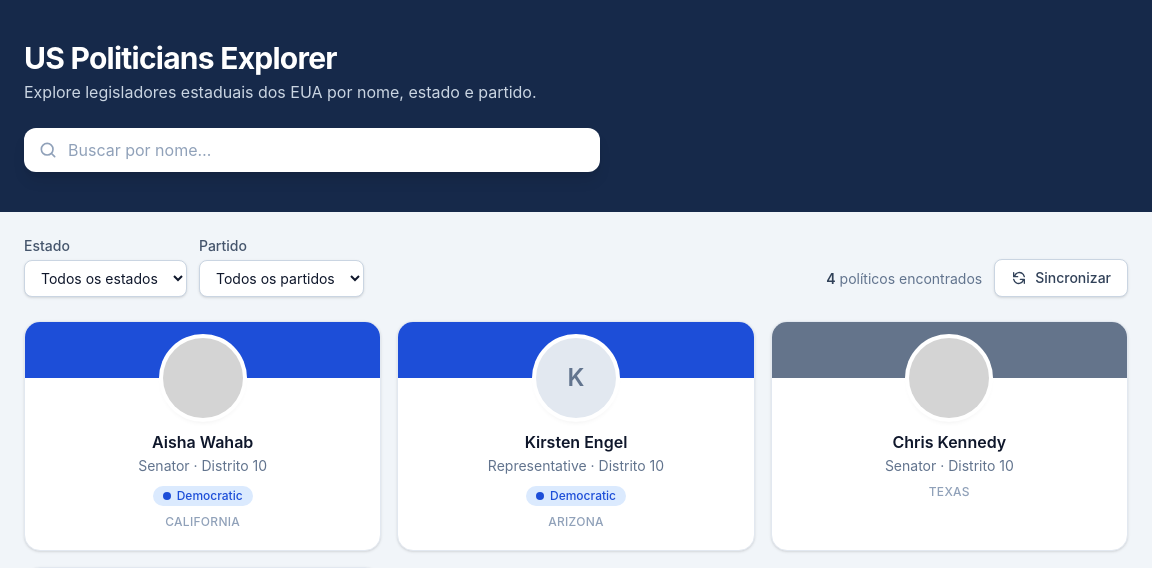
Test: PoliticosPage › "Limpar filtros" no estado vazio restaura a listagem
Type "nome-que-não-existe" into the search field labelled "Buscar por nome…" at (312, 150), box [24,128,600,172]
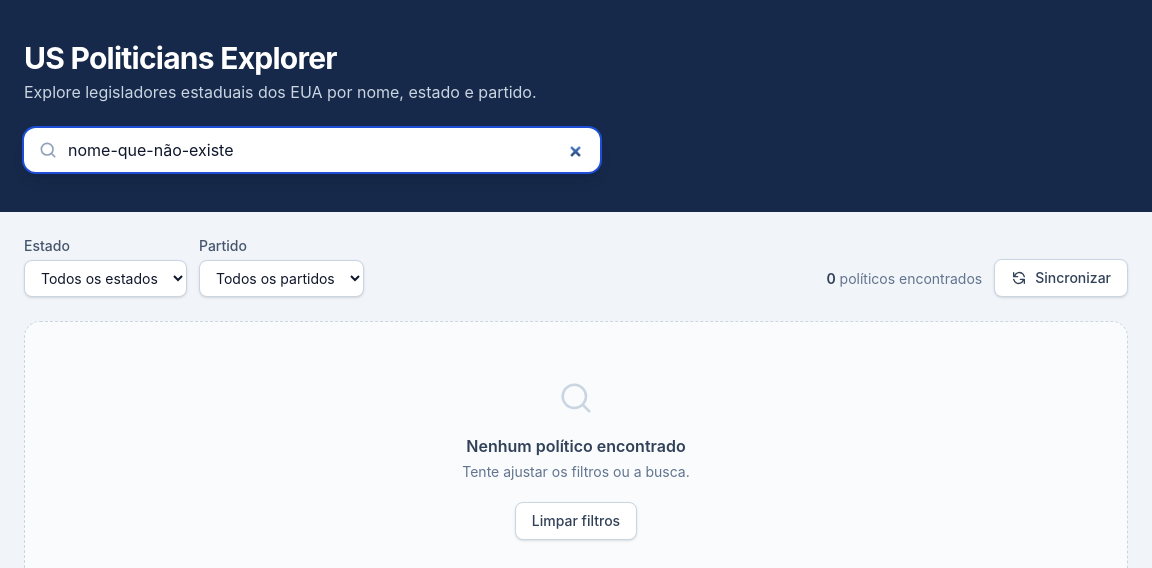
Expected: the text "Nenhum político encontrado" is shown, [466,434,686,458]
Click the button "Limpar filtros" at (576, 521), box [515,502,637,540]
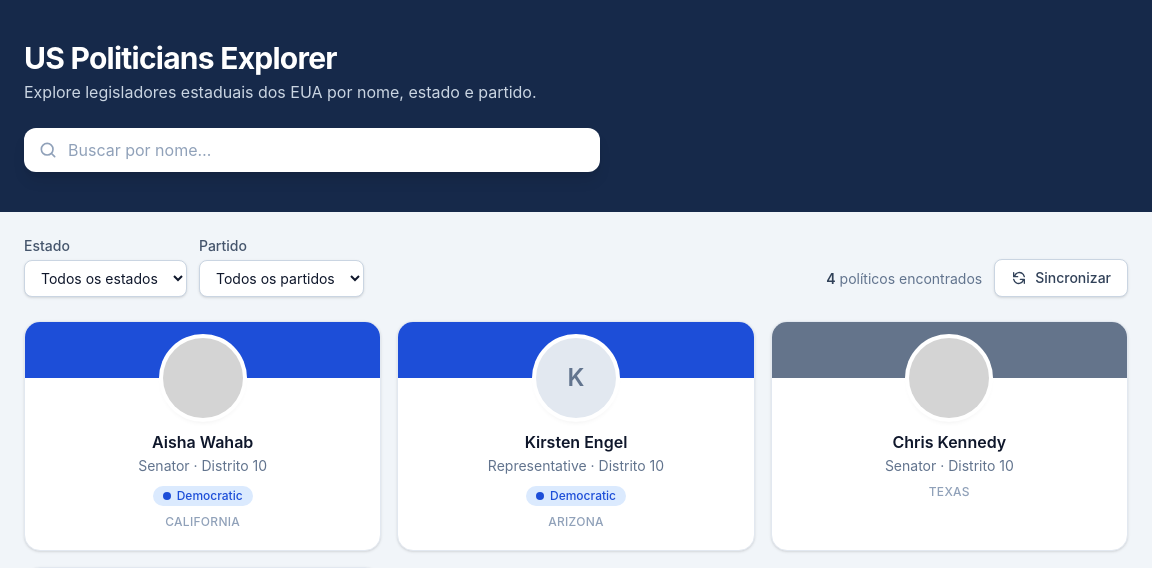
Expected: the text "Aisha Wahab" is shown, [152,432,253,452]
Expected: the search field labelled "Buscar por nome…" is empty, [24,128,600,172]
